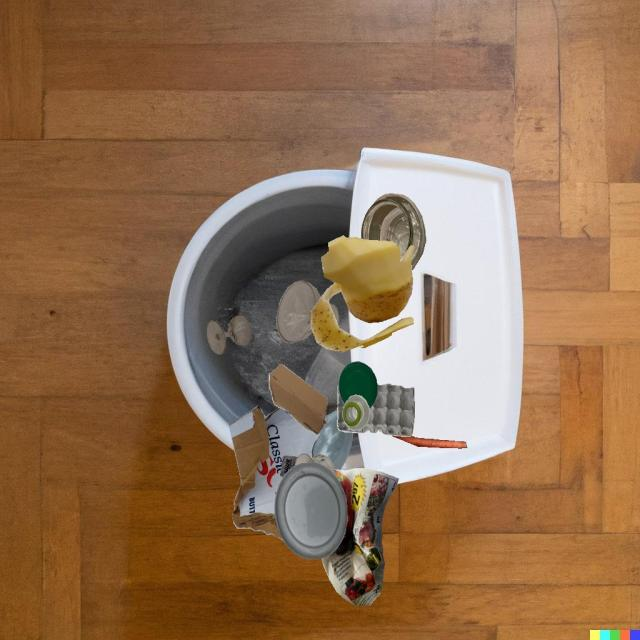biowaste: (311, 235, 414, 352), (391, 435, 467, 448)
cardboard: (229, 406, 321, 541), (269, 364, 331, 435), (337, 384, 415, 437)
glass: (361, 193, 426, 270), (276, 281, 320, 343), (313, 410, 353, 470), (207, 316, 252, 354), (343, 394, 370, 431), (295, 454, 336, 477)
paper: (322, 468, 399, 606)
plastic: (275, 463, 348, 560), (338, 361, 378, 408), (280, 456, 298, 477)
